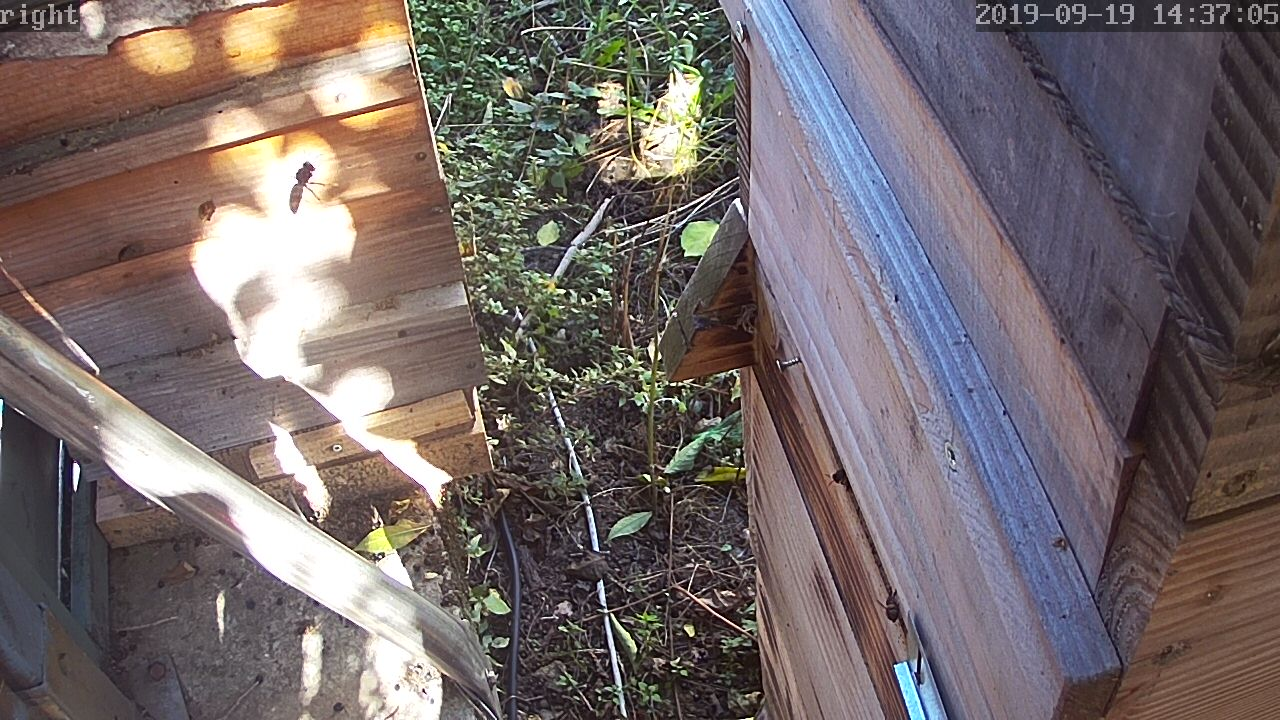bee: (872, 580, 902, 623), (815, 461, 850, 493)
hornet: (279, 158, 329, 210)
